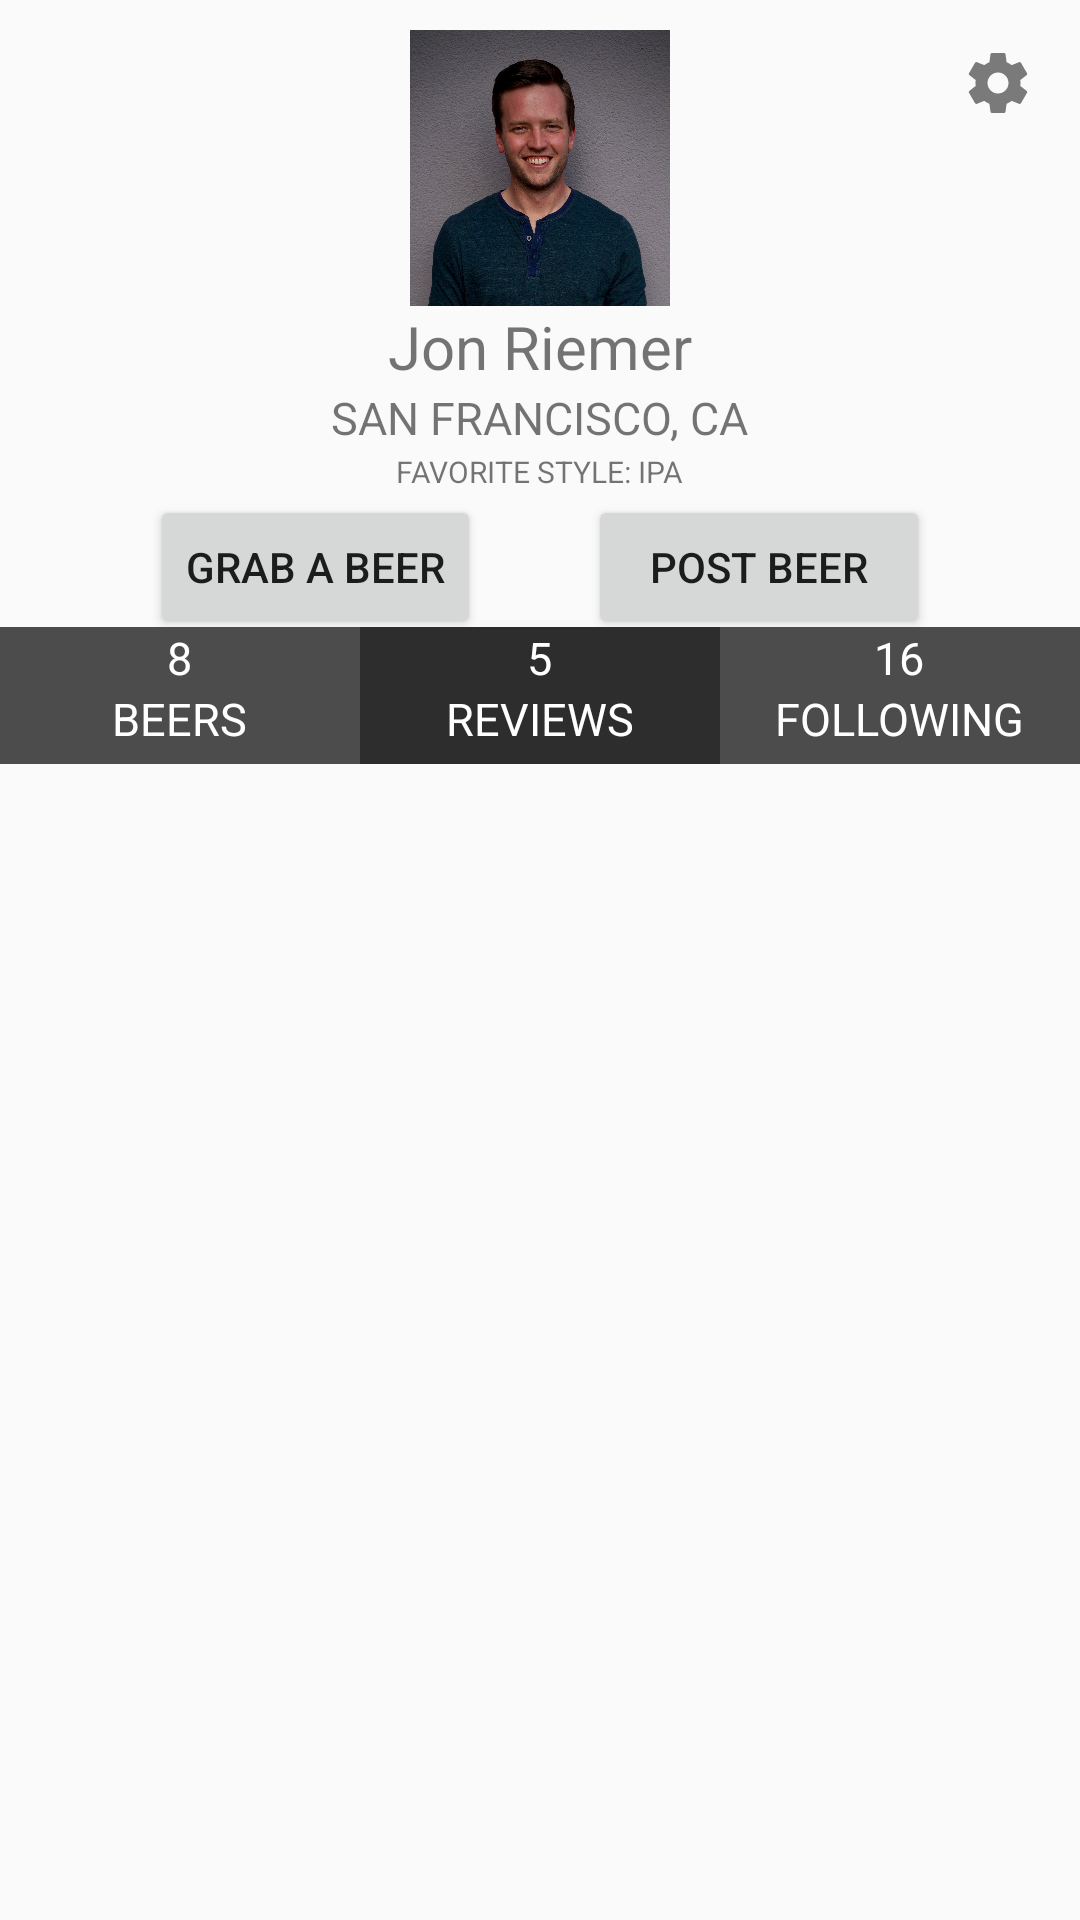

Screen size 1080 x 1920. Icon name, then its center in pixels as [x,y]:
profile: [540,168]
settings: [998,83]
